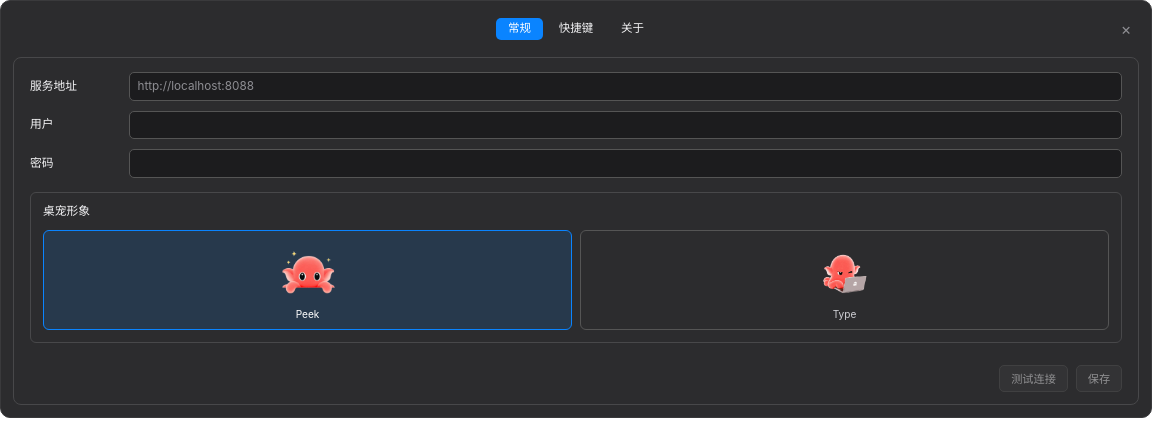
it: SettingsWindow › records a shortcut after clicking the hotkey field
The width and height of the screenshot is (1152, 435).
Expected: the field labelled "服务地址" is shown, [129,72,1122,100]
Click the tab "快捷键" at (576, 29), box [547,18,605,40]
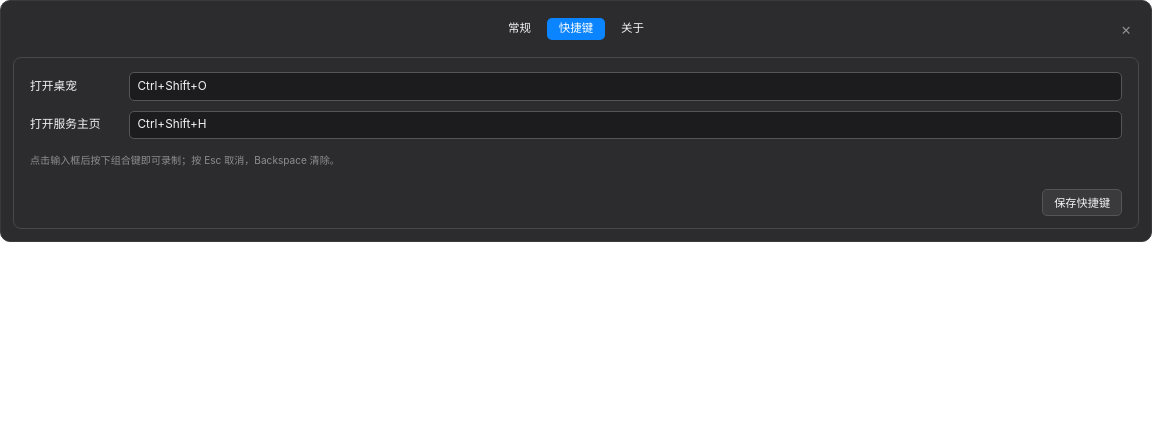
Click the button named "打开桌宠" at (172, 86), box [129,72,1122,100]
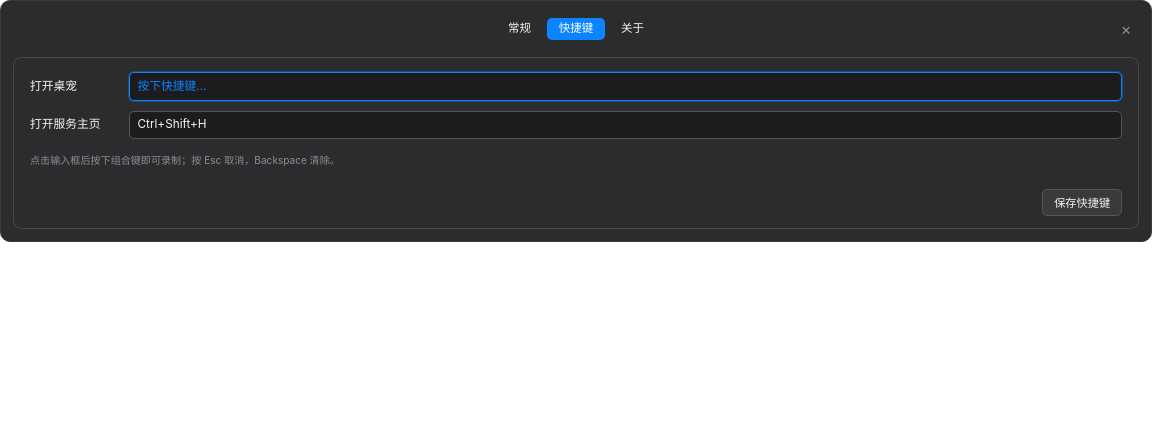
Press p
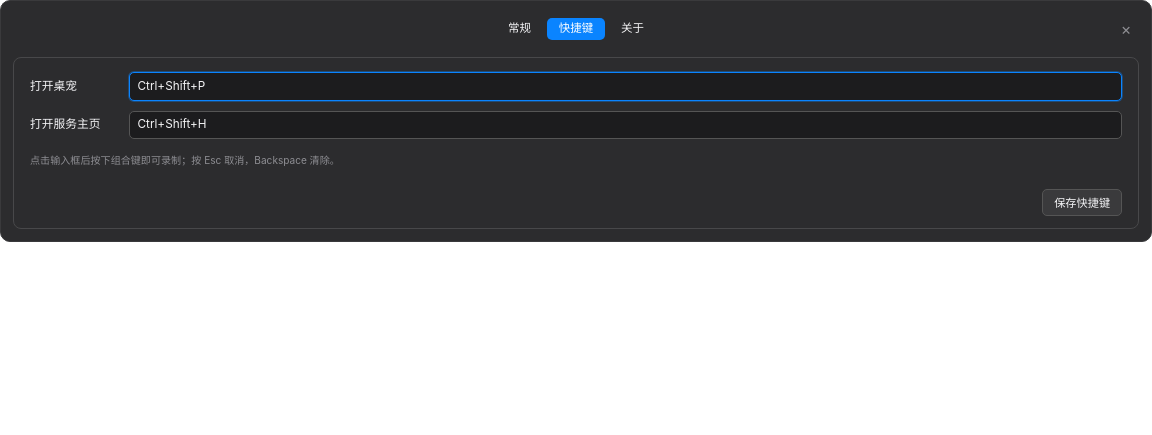
Now the button named "打开桌宠" reads "Ctrl+Shift+P", box [129,72,1122,100]
